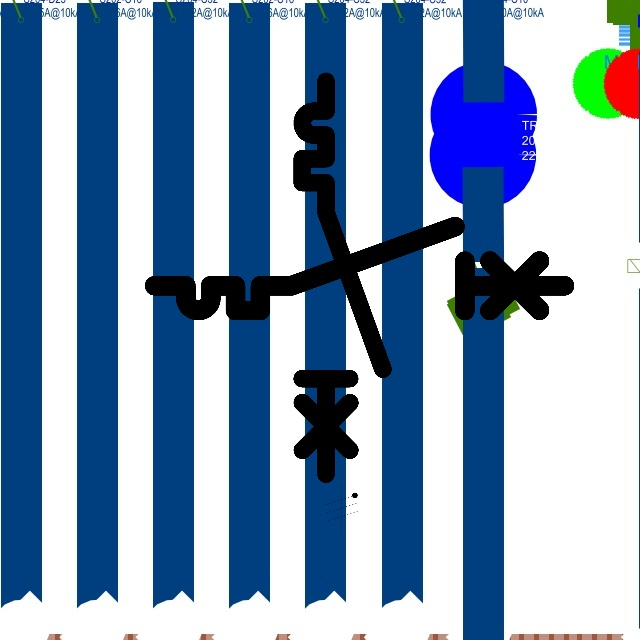interruptor_termomagnetico: (144, 216, 575, 321), (292, 71, 393, 484)
